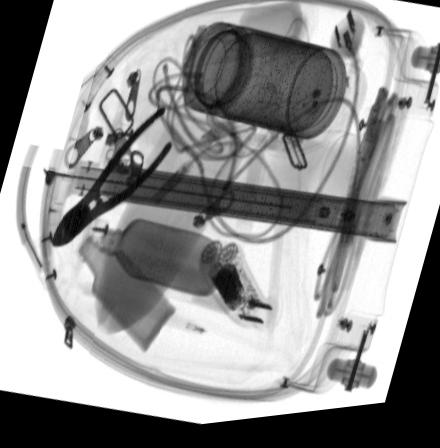Pliers: (51, 109, 175, 249)
